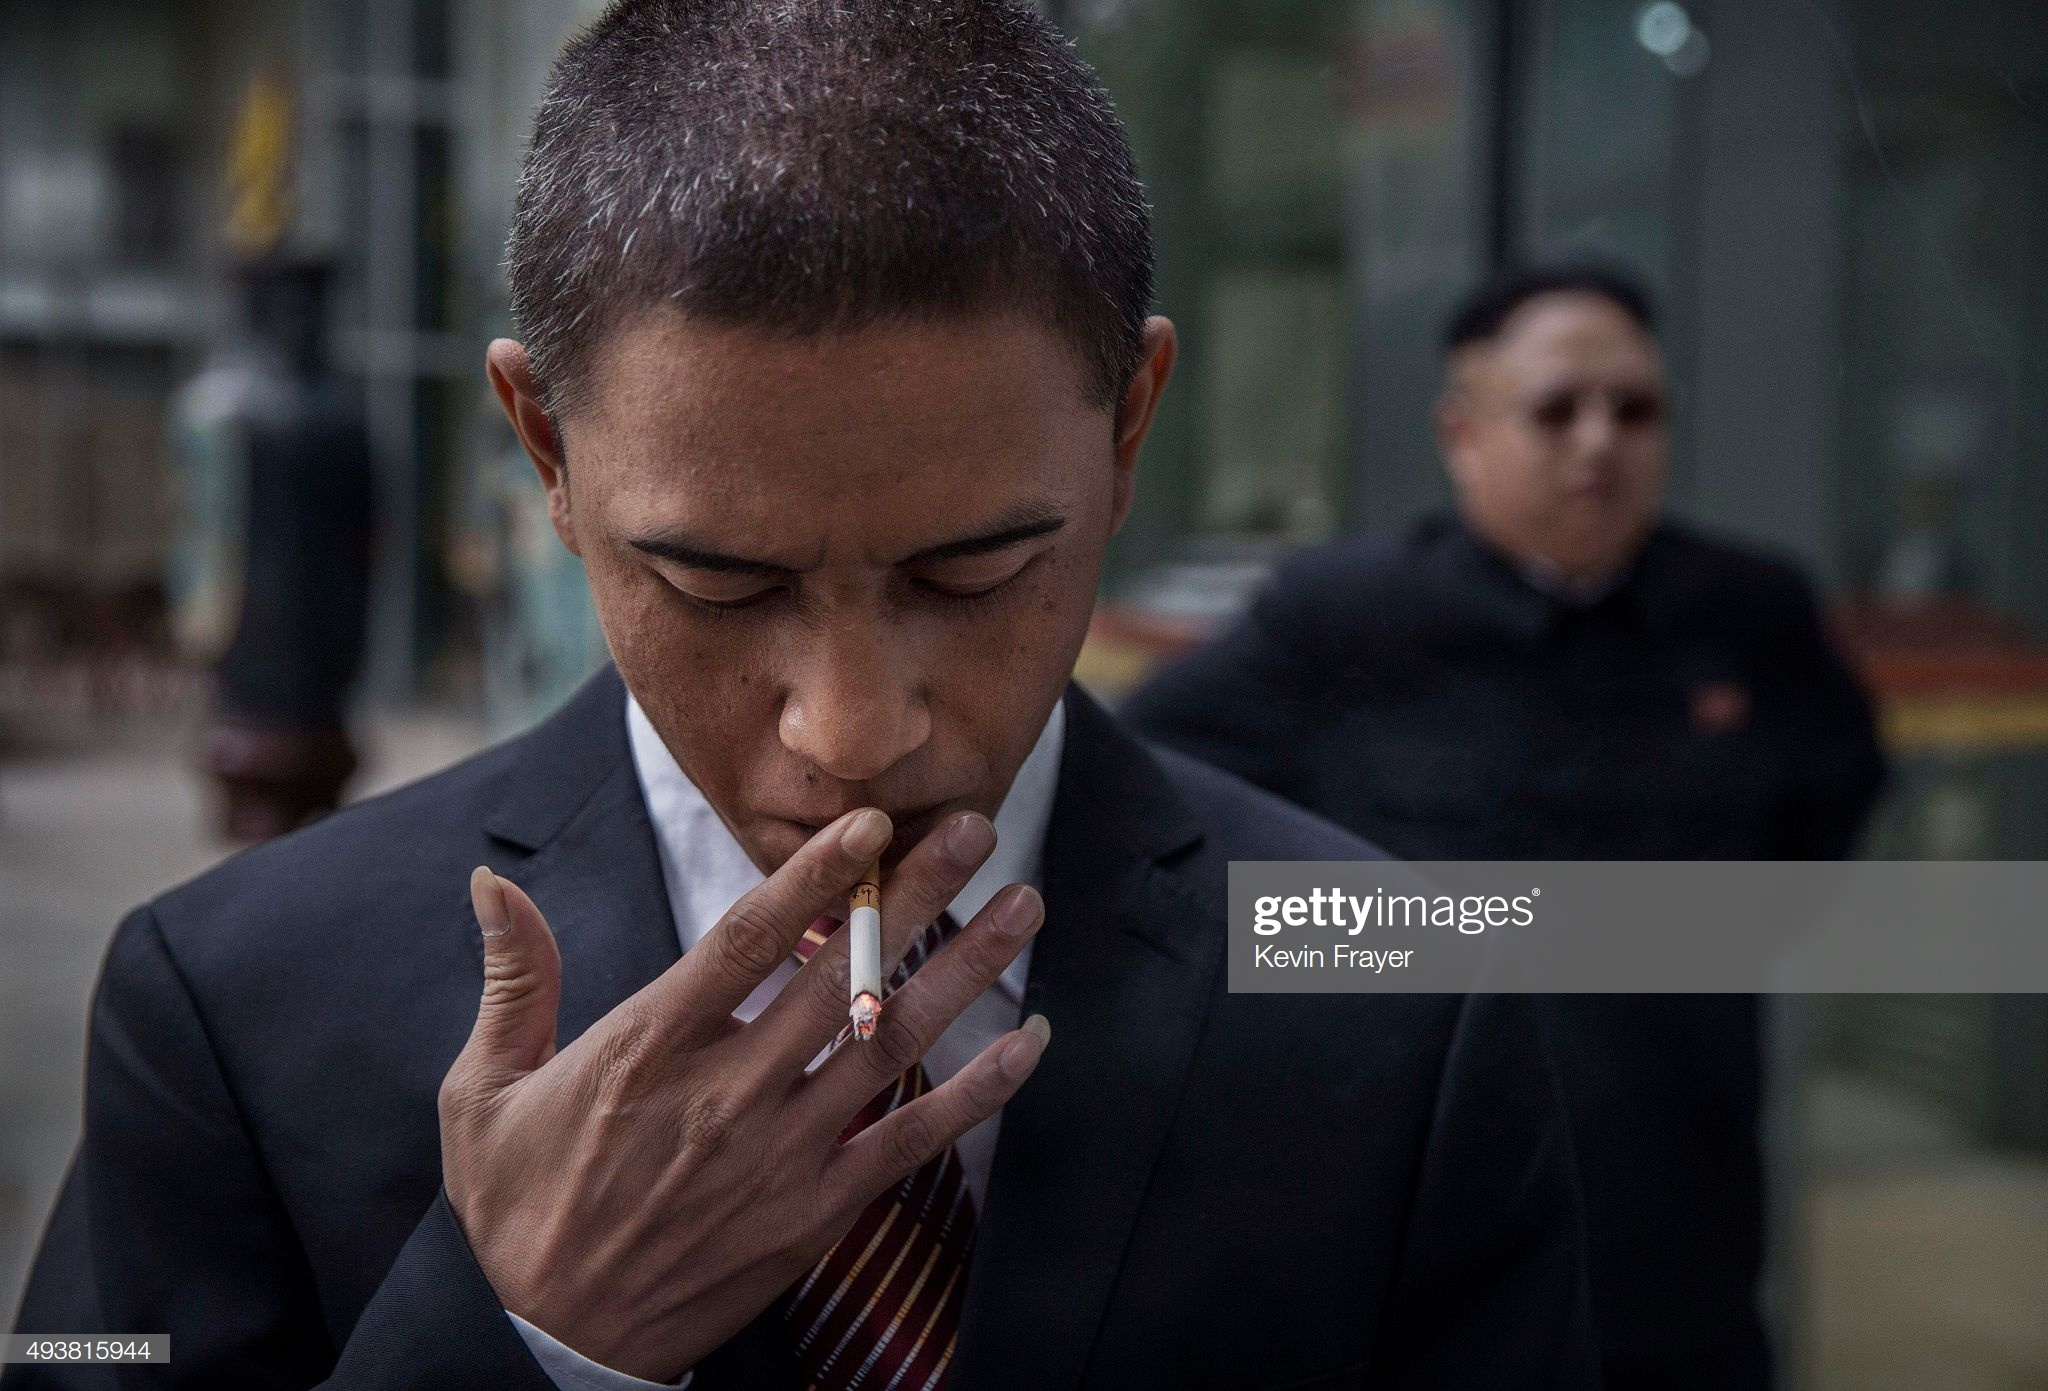sigaretta: (848, 810, 890, 1048)
